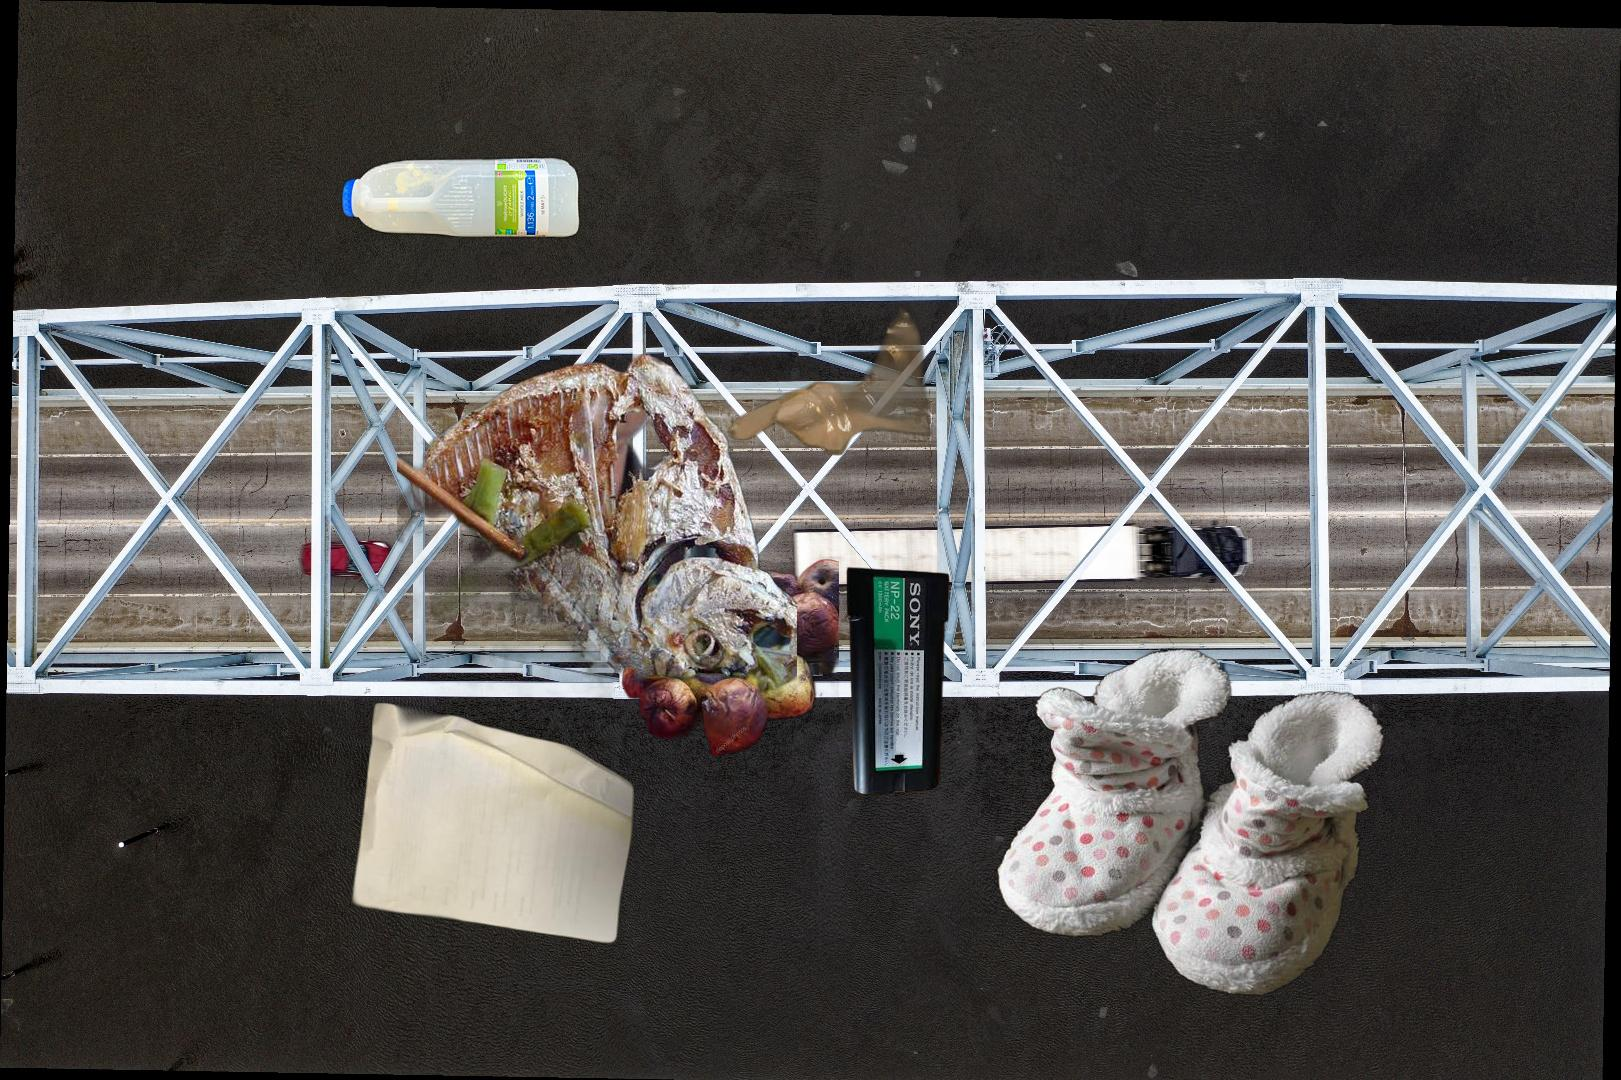battery: (844, 565, 952, 798)
biological: (397, 354, 797, 703), (616, 547, 839, 756)
glass: (724, 268, 935, 459)
paper: (346, 699, 638, 947)
plastic-bottles: (337, 151, 585, 243)
shoes: (992, 645, 1390, 1000)
